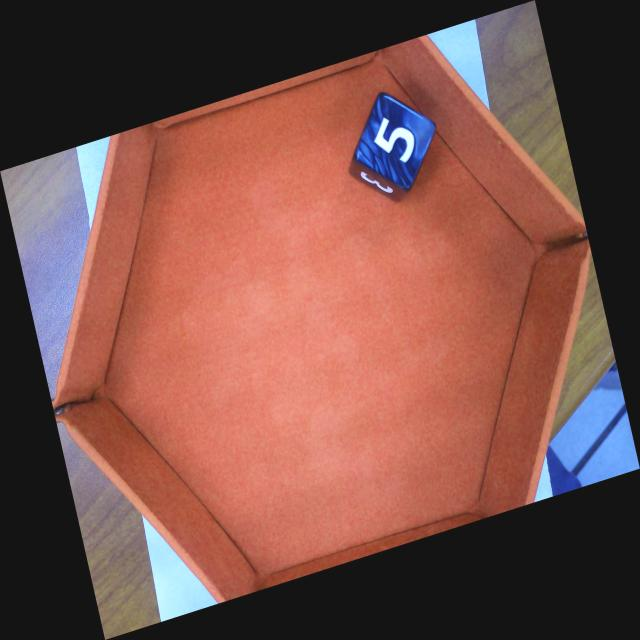dice: (351, 90, 438, 193)
